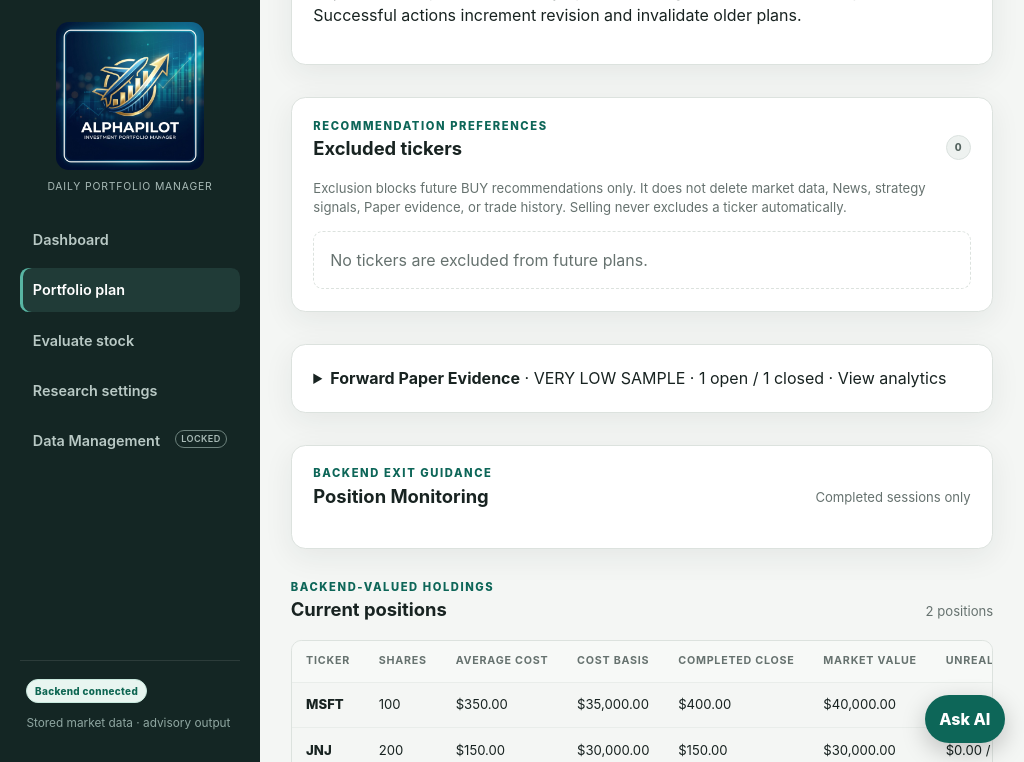
Test case: forward paper evidence is visibly separate from historical research
The width and height of the screenshot is (1024, 762).
(page scrolled)
Click the heading that starts with "Forward Paper Evidence" at (642, 378), box [313,366,971,390]
(page scrolled)
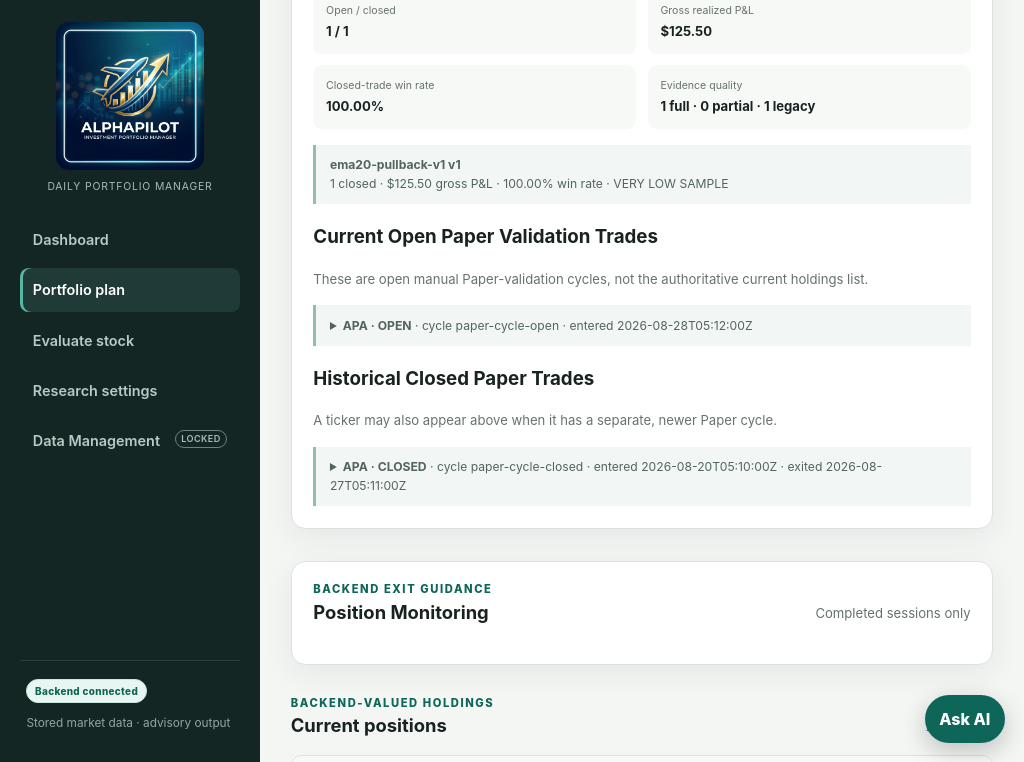
Check: the heading "Current Open Paper Validation Trades" is shown, box [313,225,658,248]
Check: the heading "Historical Closed Paper Trades" is shown, box [313,367,594,390]
Check: the text "very low sample" is shown 2 times
